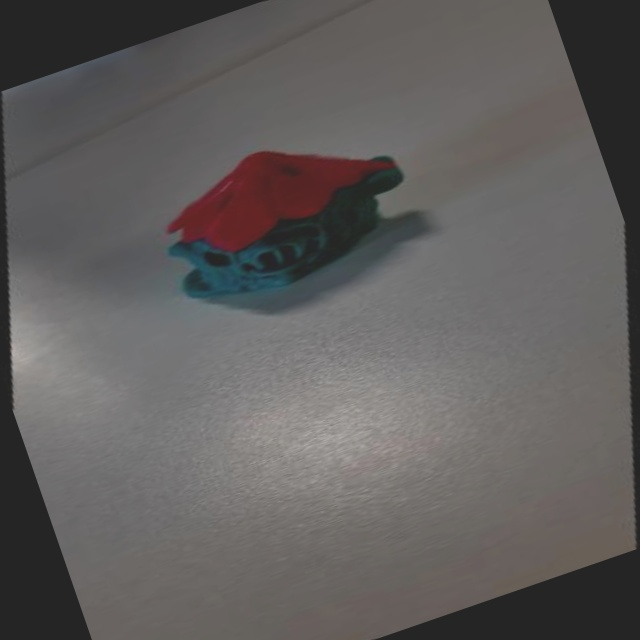House: (106, 70, 508, 370)
